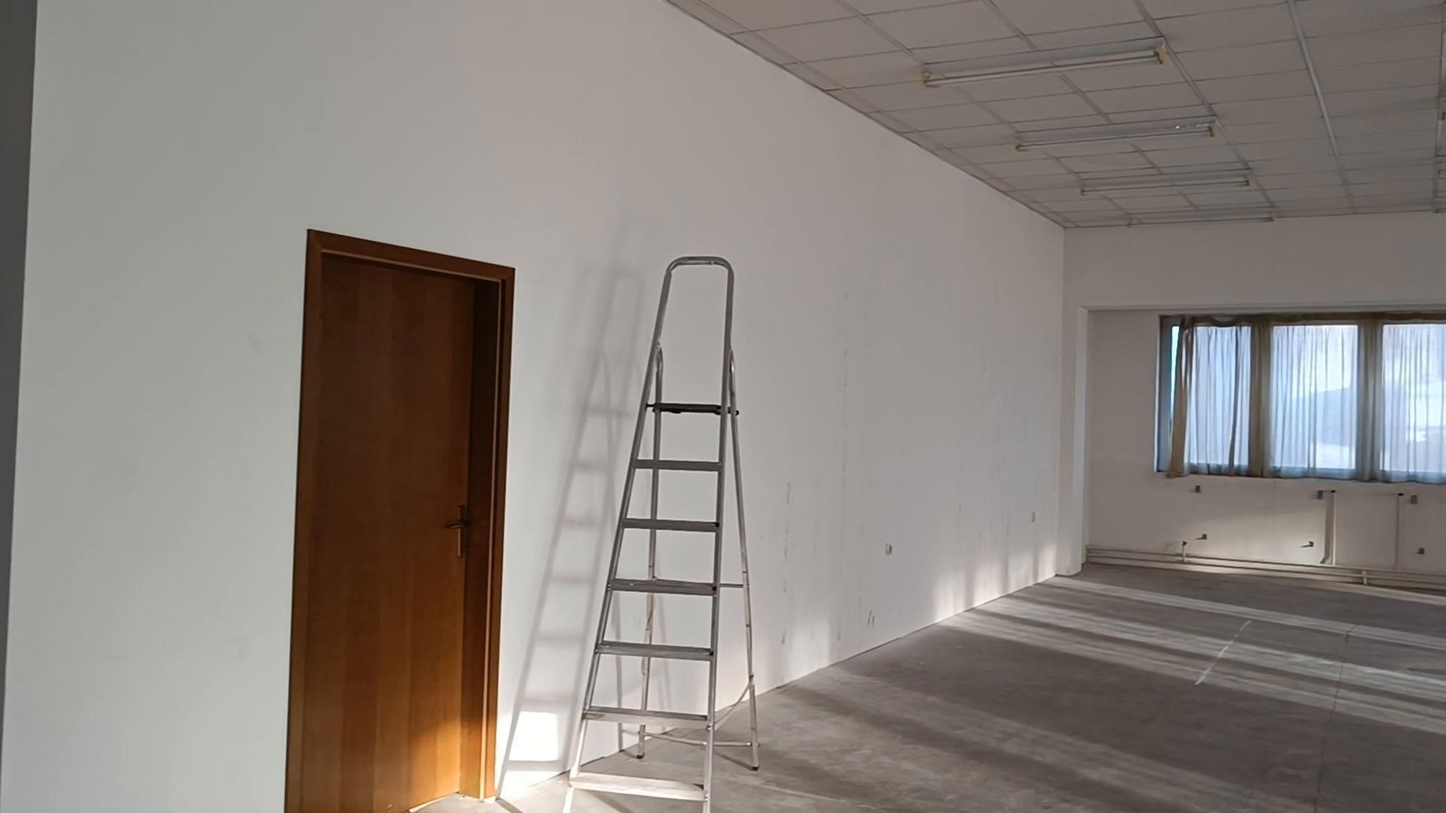ceiling: (668, 0, 1445, 227)
floor: (713, 565, 1445, 812)
wall: (0, 0, 1445, 812)
